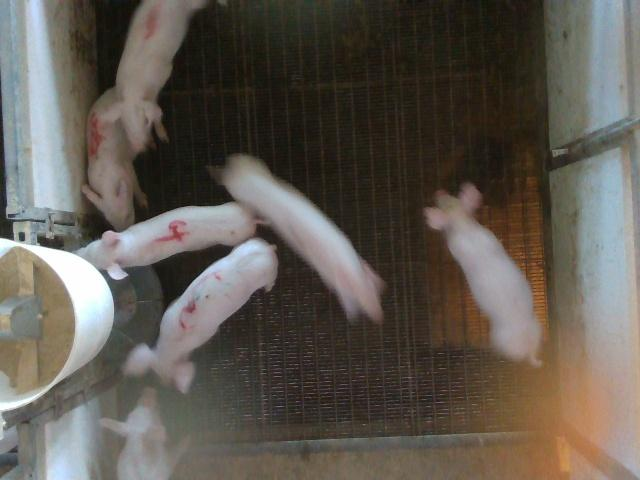pig-1: (114, 0, 208, 153)
pig-2: (215, 155, 384, 322)
pig-3: (125, 239, 275, 392)
pig-4: (75, 202, 258, 279)
pig-5: (82, 88, 146, 231)
